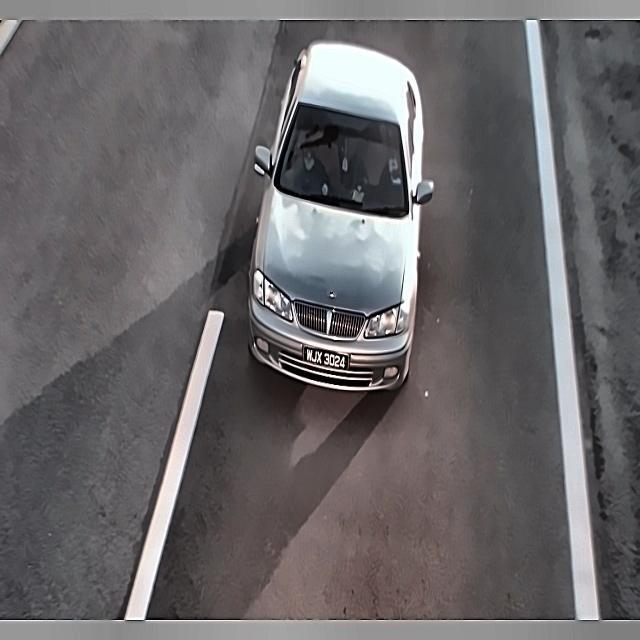car: (301, 339, 353, 384)
